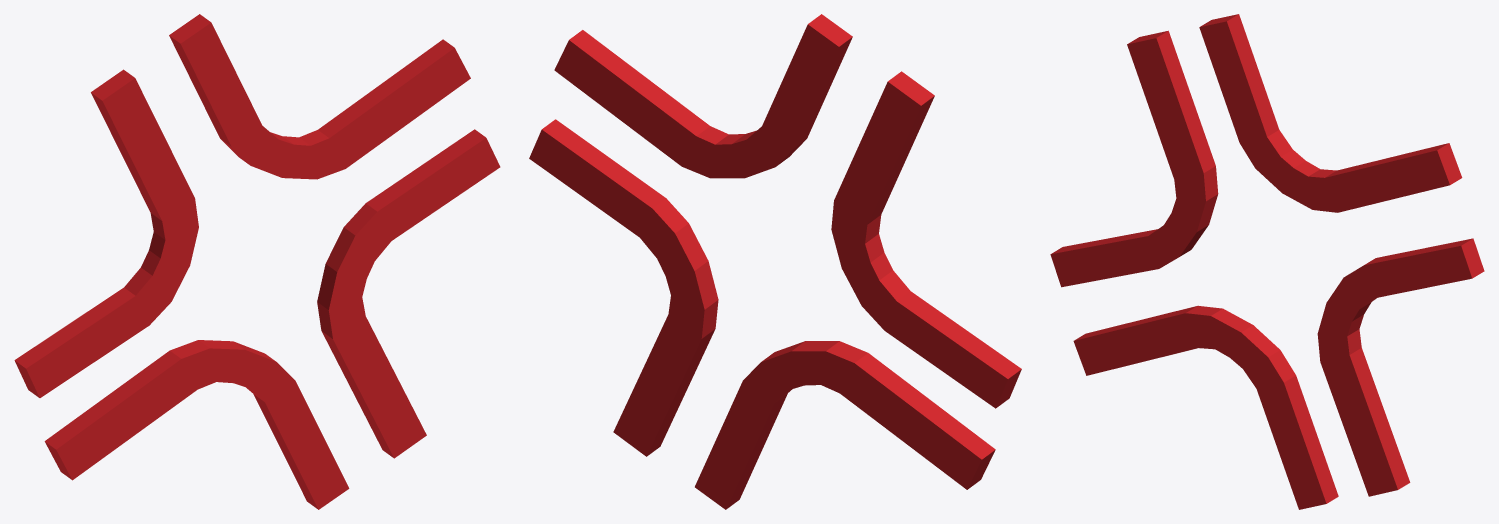
File: ikari.fbx
3 renders of one model, left to right at view 1: azimuth 30°, elevation 25°; view 2: azimuth 150°, elevation 25°; view 3: azimuth 330°, elevation 25°, orthographic. The views are drawn at different scales.
Visible parts, largest first — view 1: Cube.002; view 2: Cube.002; view 3: Cube.002.
Part boxes in pixels (left/top/right/bottom): Cube.002: left=14, top=14, right=500, bottom=509; Cube.002: left=529, top=14, right=1021, bottom=509; Cube.002: left=1050, top=14, right=1484, bottom=509.
Size of the model in its own units: 90.94 by 92.94 by 9.25.
